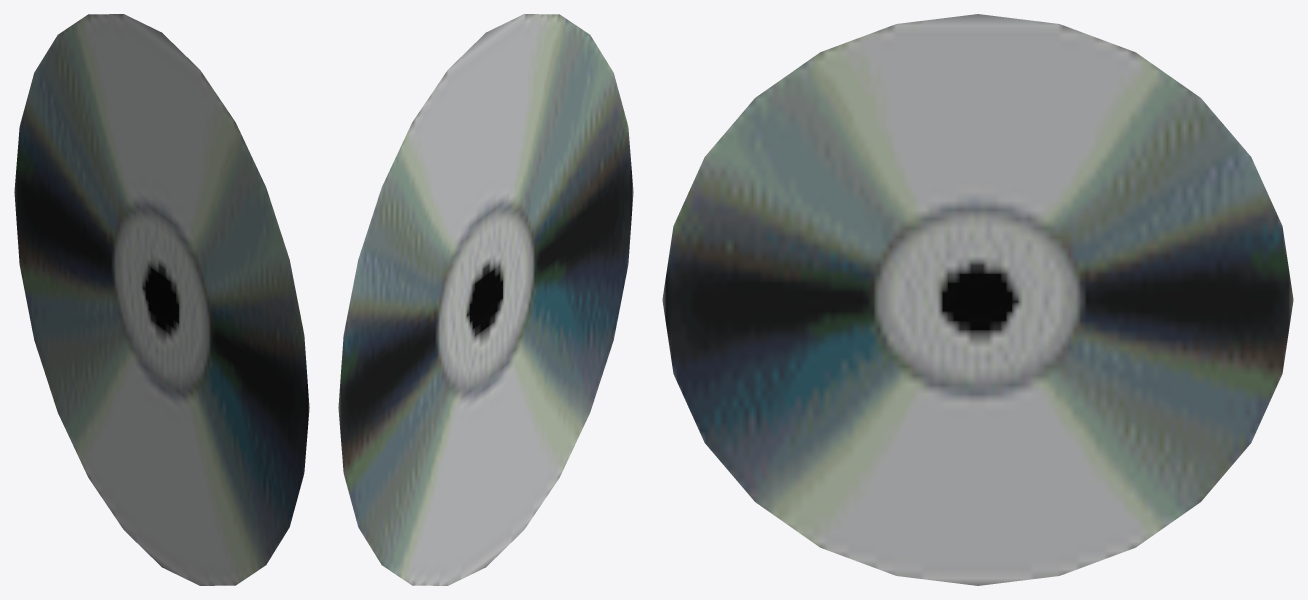
The picture shows the model from 3 angles, left to right: view 1: azimuth 30°, elevation 25°; view 2: azimuth 150°, elevation 25°; view 3: azimuth 270°, elevation 25°; orthographic projection. The views are drawn at different scales.
Parts seen in each view (by area): view 1: CD_CD_0; view 2: CD_CD_0; view 3: CD_CD_0.
Part boxes in pixels (x1=…): CD_CD_0: x1=14, y1=14, x2=309, y2=585; CD_CD_0: x1=338, y1=14, x2=633, y2=585; CD_CD_0: x1=662, y1=14, x2=1293, y2=585.
Size of the model in its own units: 2.75e-08 by 0.1043 by 0.1043.
Materials: 1 (1 with a texture image).
